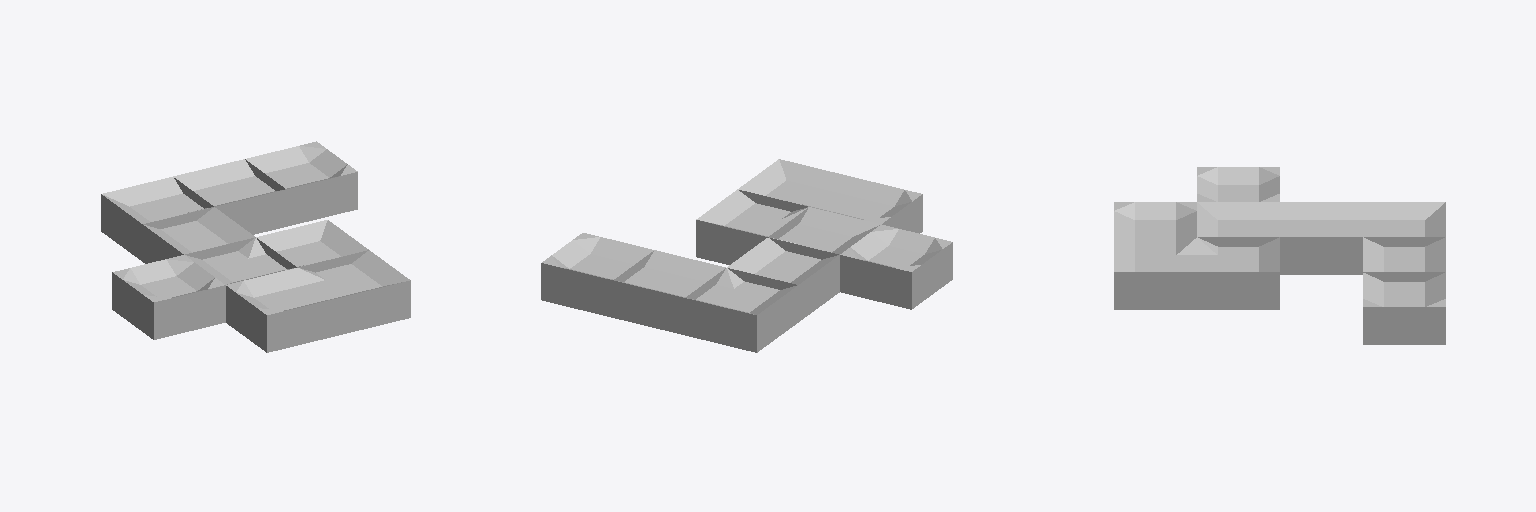
The model's file is 17f_path.obj.
3 views of the same model, side by side, from view 1: azimuth 30°, elevation 25°; view 2: azimuth 150°, elevation 25°; view 3: azimuth 270°, elevation 25° (orthographic).
Visible parts, largest first — view 1: foil.hole.0.1_Cube.185, foil.ending.1.0_ending.367, foil.corner.2.0_corner.918, foil.ending.3.3_ending.368, foil.through.2.3_through.185, foil.corner.1.3_corner.917, foil.through.1.2_through.184, foil.corner.2.1_corner.919, foil.corner.1.1_corner.916; view 2: foil.hole.0.1_Cube.185, foil.corner.1.3_corner.917, foil.through.2.3_through.185, foil.ending.3.3_ending.368, foil.through.1.2_through.184, foil.corner.2.1_corner.919, foil.corner.2.0_corner.918, foil.ending.1.0_ending.367, foil.corner.1.1_corner.916; view 3: foil.through.1.2_through.184, foil.corner.2.1_corner.919, foil.corner.2.0_corner.918, foil.ending.3.3_ending.368, foil.through.2.3_through.185, foil.ending.1.0_ending.367, foil.corner.1.1_corner.916, foil.hole.0.1_Cube.185, foil.corner.1.3_corner.917.
Part boxes in pixels (bbox=[...]): foil.hole.0.1_Cube.185: bbox=[112, 255, 225, 339]; foil.ending.1.0_ending.367: bbox=[226, 268, 338, 352]; foil.corner.2.0_corner.918: bbox=[298, 250, 410, 334]; foil.ending.3.3_ending.368: bbox=[246, 141, 357, 226]; foil.through.2.3_through.185: bbox=[173, 159, 285, 234]; foil.corner.1.3_corner.917: bbox=[101, 177, 211, 261]; foil.through.1.2_through.184: bbox=[143, 207, 255, 263]; foil.corner.2.1_corner.919: bbox=[256, 220, 368, 268]; foil.corner.1.1_corner.916: bbox=[185, 238, 295, 284]; foil.hole.0.1_Cube.185: bbox=[840, 224, 952, 309]; foil.corner.1.3_corner.917: bbox=[685, 268, 797, 352]; foil.through.2.3_through.185: bbox=[613, 250, 725, 334]; foil.ending.3.3_ending.368: bbox=[541, 233, 653, 317]; foil.through.1.2_through.184: bbox=[727, 237, 839, 322]; foil.corner.2.1_corner.919: bbox=[696, 189, 808, 264]; foil.corner.2.0_corner.918: bbox=[738, 159, 850, 211]; foil.ending.1.0_ending.367: bbox=[812, 177, 922, 233]; foil.corner.1.1_corner.916: bbox=[769, 207, 880, 254]; foil.through.1.2_through.184: bbox=[1280, 202, 1362, 274]; foil.corner.2.1_corner.919: bbox=[1197, 237, 1279, 309]; foil.corner.2.0_corner.918: bbox=[1114, 237, 1196, 309]; foil.ending.3.3_ending.368: bbox=[1363, 272, 1445, 344]; foil.through.2.3_through.185: bbox=[1363, 237, 1445, 281]; foil.ending.1.0_ending.367: bbox=[1114, 202, 1196, 246]; foil.corner.1.1_corner.916: bbox=[1197, 202, 1279, 246]; foil.hole.0.1_Cube.185: bbox=[1197, 167, 1279, 201]; foil.corner.1.3_corner.917: bbox=[1363, 202, 1445, 236].
Size of the model in its own units: 8 by 1 by 8.